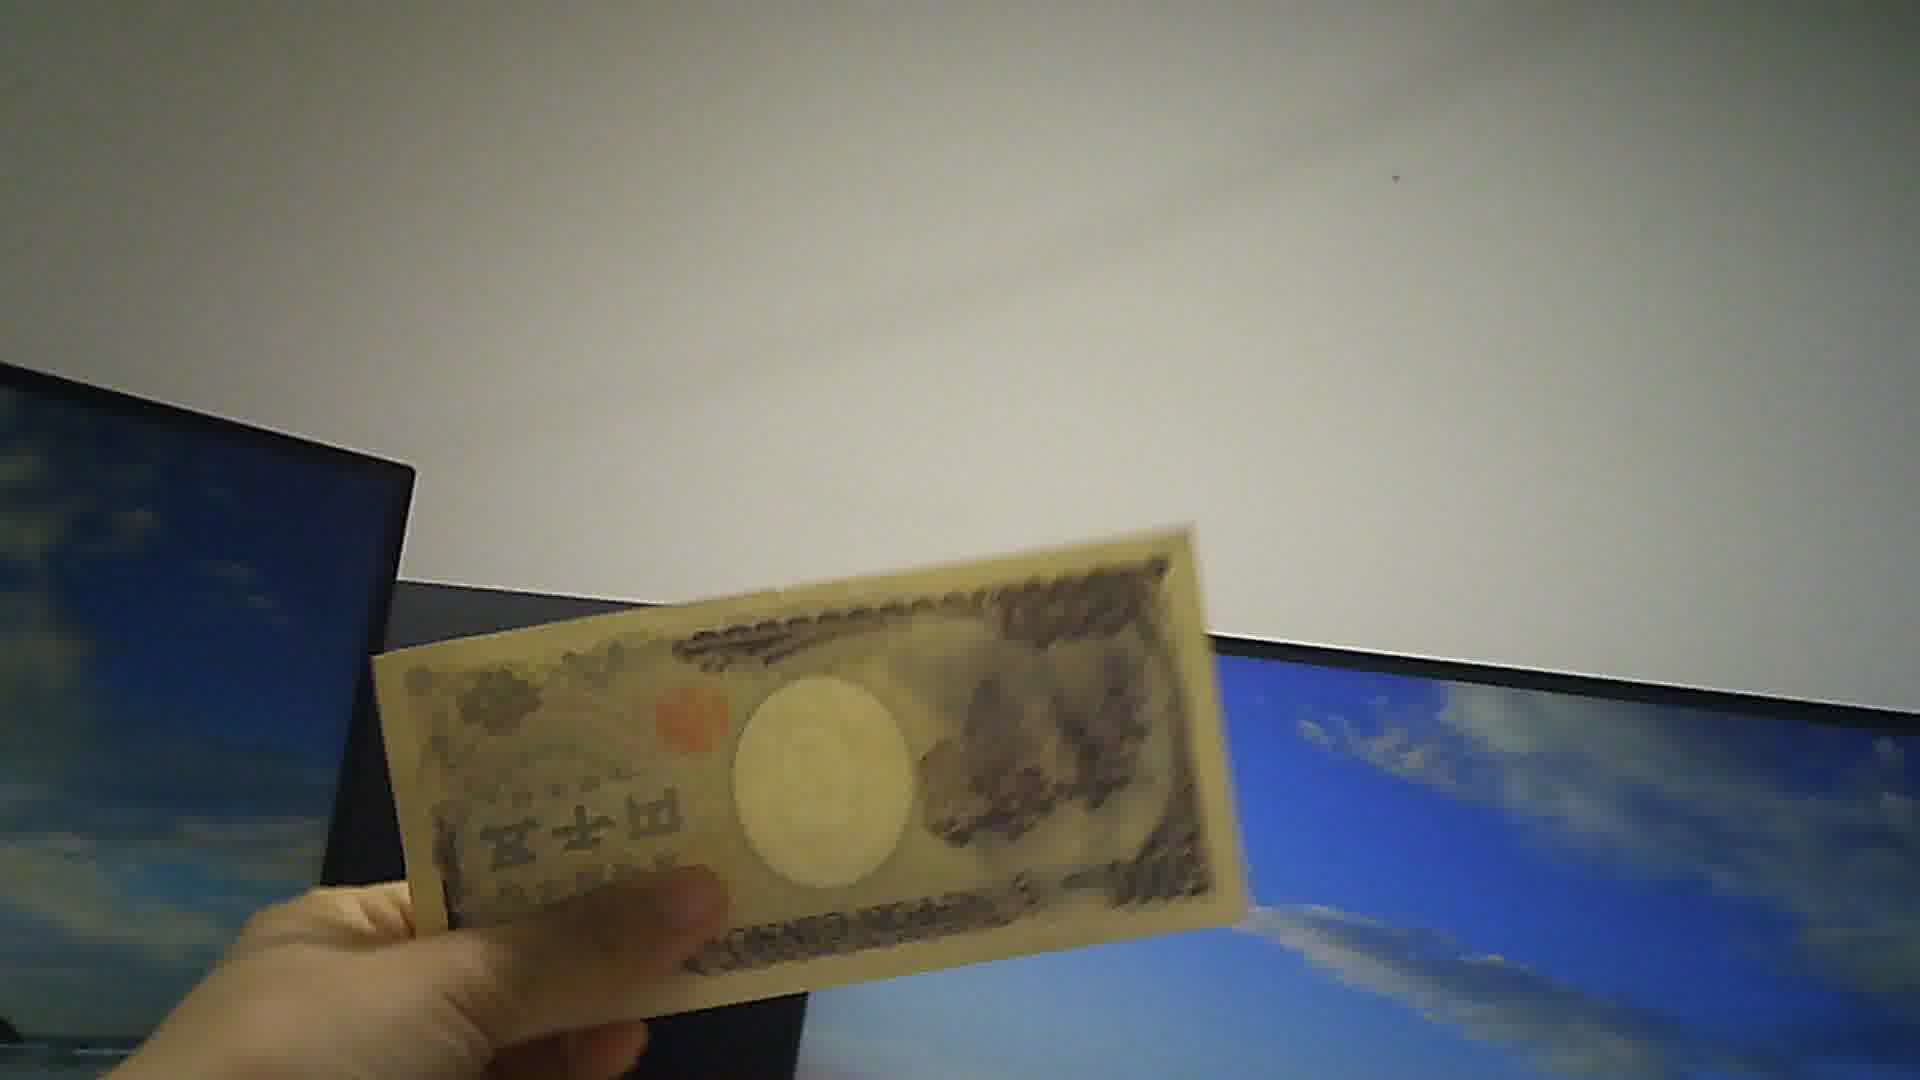5,000 Yen: (342, 512, 1253, 996)
